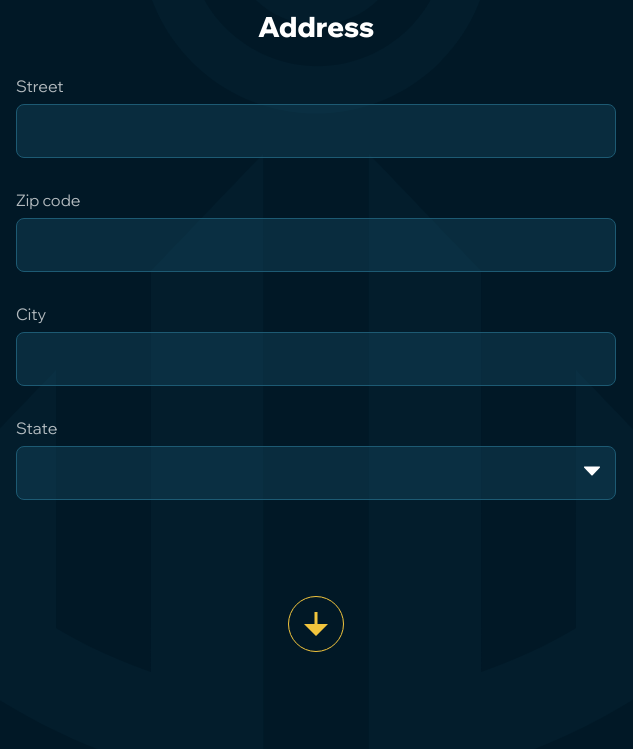
Test: Form › should return an error if the input value is invalid
(page scrolled)
Type "12345" into the field with test id "city" at (316,359), box [16,332,616,386]
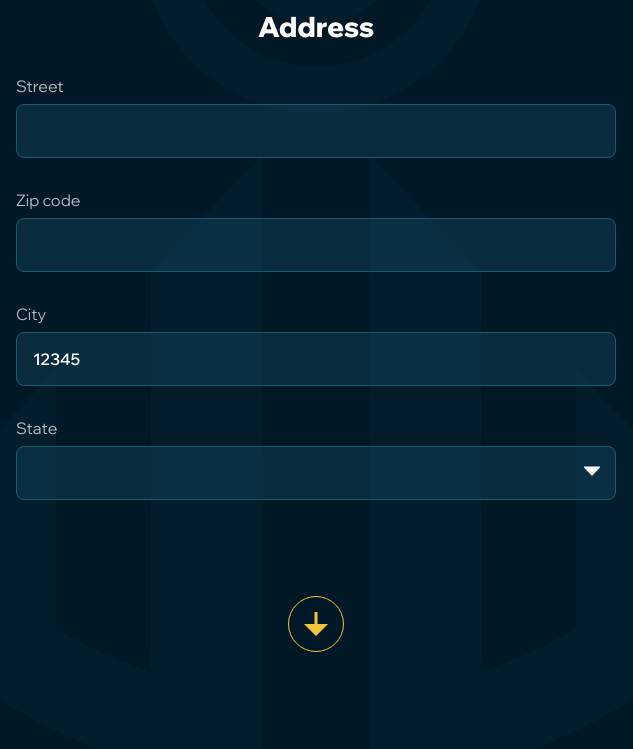
Leave the field with test id "city", box [16,332,616,386]
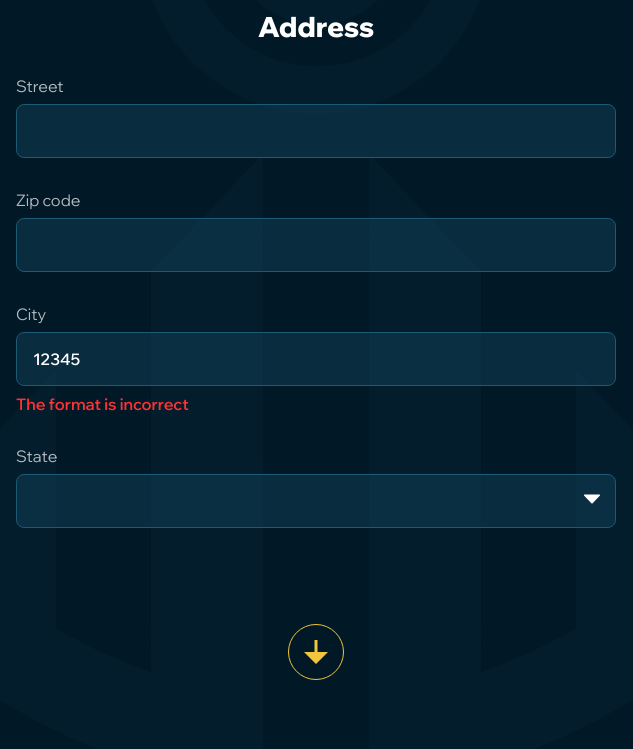
Now the text "The format is incorrect" is shown, box [16,394,189,414]
